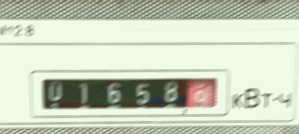0: (47, 77, 60, 100)
1: (77, 80, 87, 102)
5: (134, 79, 148, 103)
6: (105, 79, 119, 101)
8: (162, 78, 176, 100)
9: (190, 86, 204, 107)
screen: (22, 58, 236, 123)
